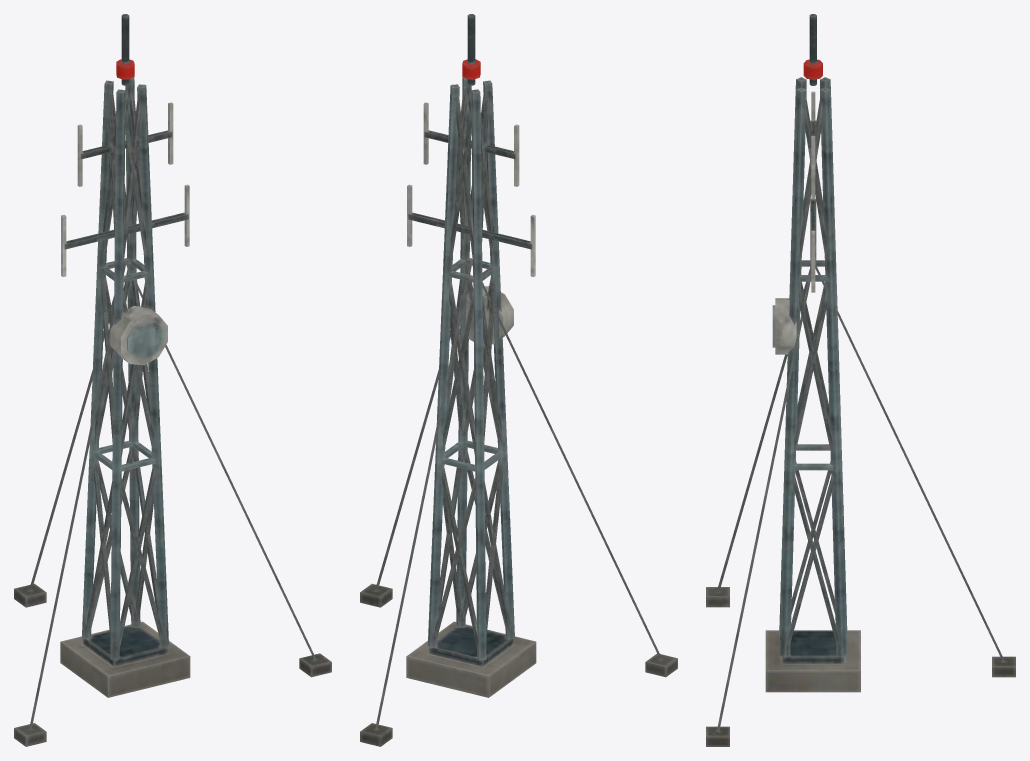
The model's file is antenna.glb.
The picture shows the model from 3 angles, left to right: view 1: azimuth 30°, elevation 25°; view 2: azimuth 150°, elevation 25°; view 3: azimuth 270°, elevation 25°; orthographic projection.
Parts seen in each view (by area): view 1: te_perimeter_antenna; view 2: te_perimeter_antenna; view 3: te_perimeter_antenna.
Part boxes in pixels (box(x1,y1,x2,y2)): te_perimeter_antenna: box(14, 14, 331, 746); te_perimeter_antenna: box(360, 14, 677, 746); te_perimeter_antenna: box(706, 14, 1015, 746).
Bounding box in the file's own units: 0.7428 × 1.52 × 0.65.
1 material, 1 textured.
